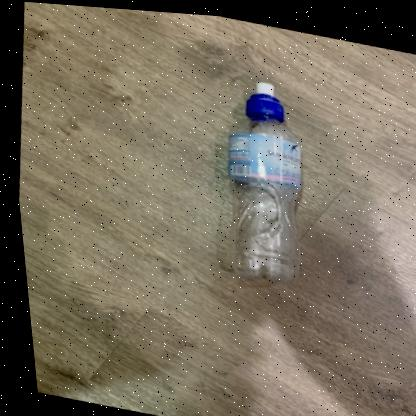Plastic: (225, 79, 298, 278)
